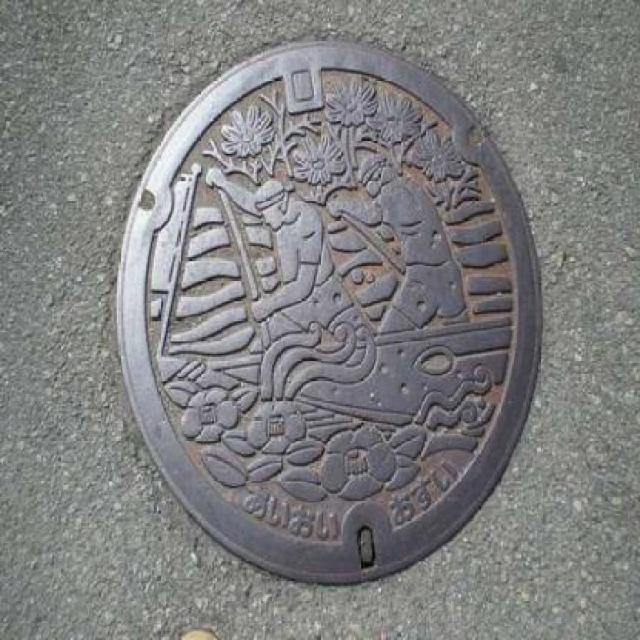Manhole: (101, 23, 550, 594)
